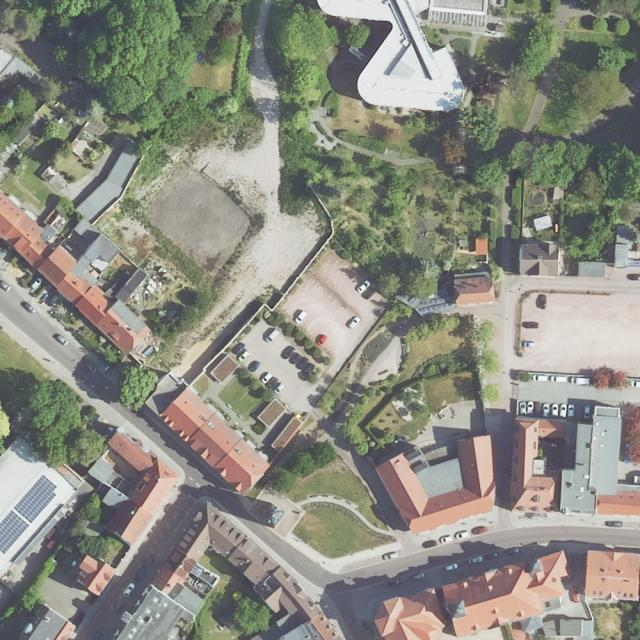PV: (0, 475, 58, 554), (421, 290, 453, 313), (410, 295, 421, 304)
